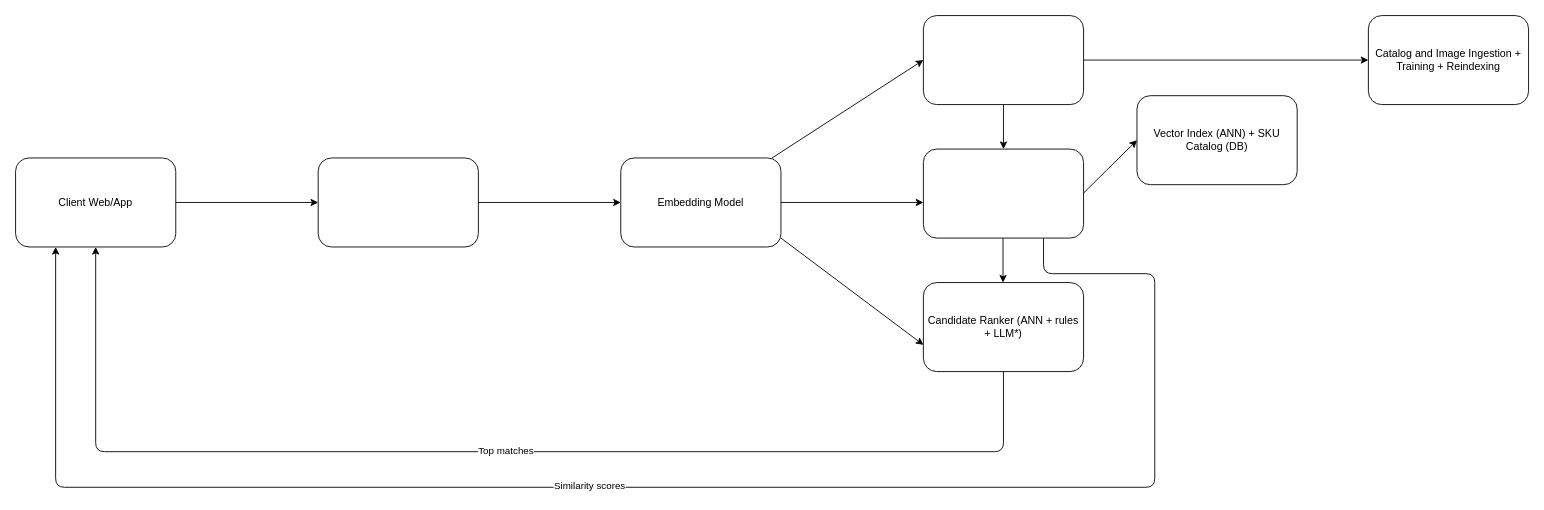
The diagram is 1544 pixels wide and 510 high, and some of its shapes have lost their labels. The shapes that lost their labels are listed below. From the top down, each one's centre as x and y in pixels, then its label:
At (1003,60): "Image Preprocess (normal, resize, crop)".
At (397,202): "API Service".
At (1003,193): "Embedding Model Service".
